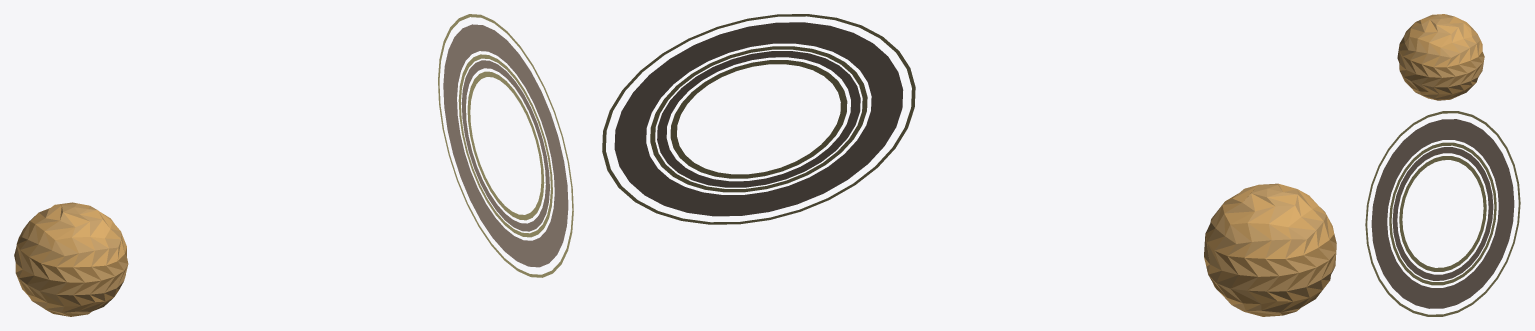
File: Saturn.fbx
3 views of the same model, side by side, from view 1: azimuth 30°, elevation 25°; view 2: azimuth 150°, elevation 25°; view 3: azimuth 270°, elevation 25° (orthographic). The views are drawn at different scales.
Parts seen in each view (by area): view 1: SaturnsRings, Saturn; view 2: SaturnsRings, Saturn; view 3: SaturnsRings, Saturn.
Boxes of the visible parts, box(x1,y1,x2,y2) form: SaturnsRings: box(438, 14, 573, 277); Saturn: box(14, 202, 128, 316); SaturnsRings: box(602, 14, 915, 224); Saturn: box(1204, 183, 1336, 316); SaturnsRings: box(1365, 111, 1520, 316); Saturn: box(1397, 14, 1484, 100).
Bounding box in the file's own units: 516 × 630 × 1689.
